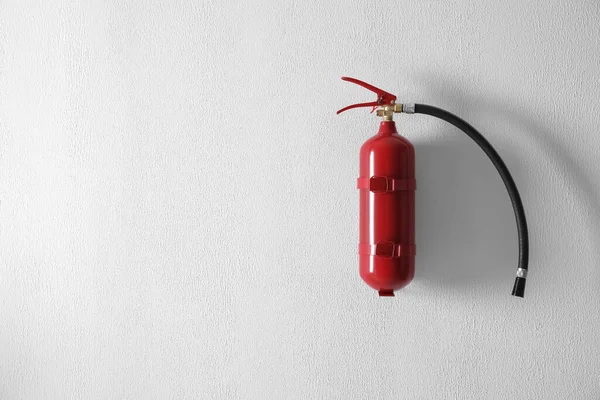fire_extinguisher: (335, 76, 530, 298)
